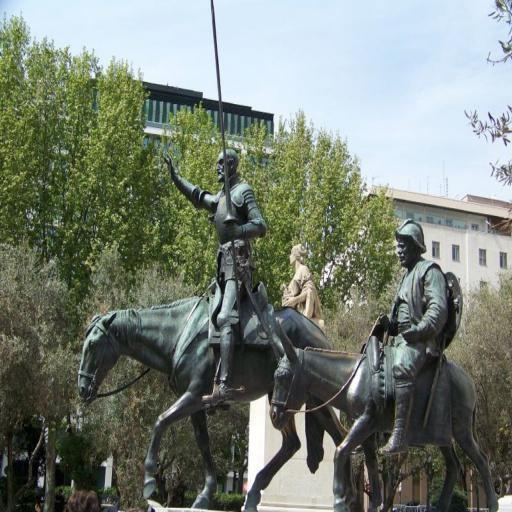horse: (76, 294, 358, 512), (269, 319, 500, 511)
